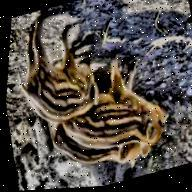boar: (40, 35, 192, 169), (4, 0, 121, 137)
